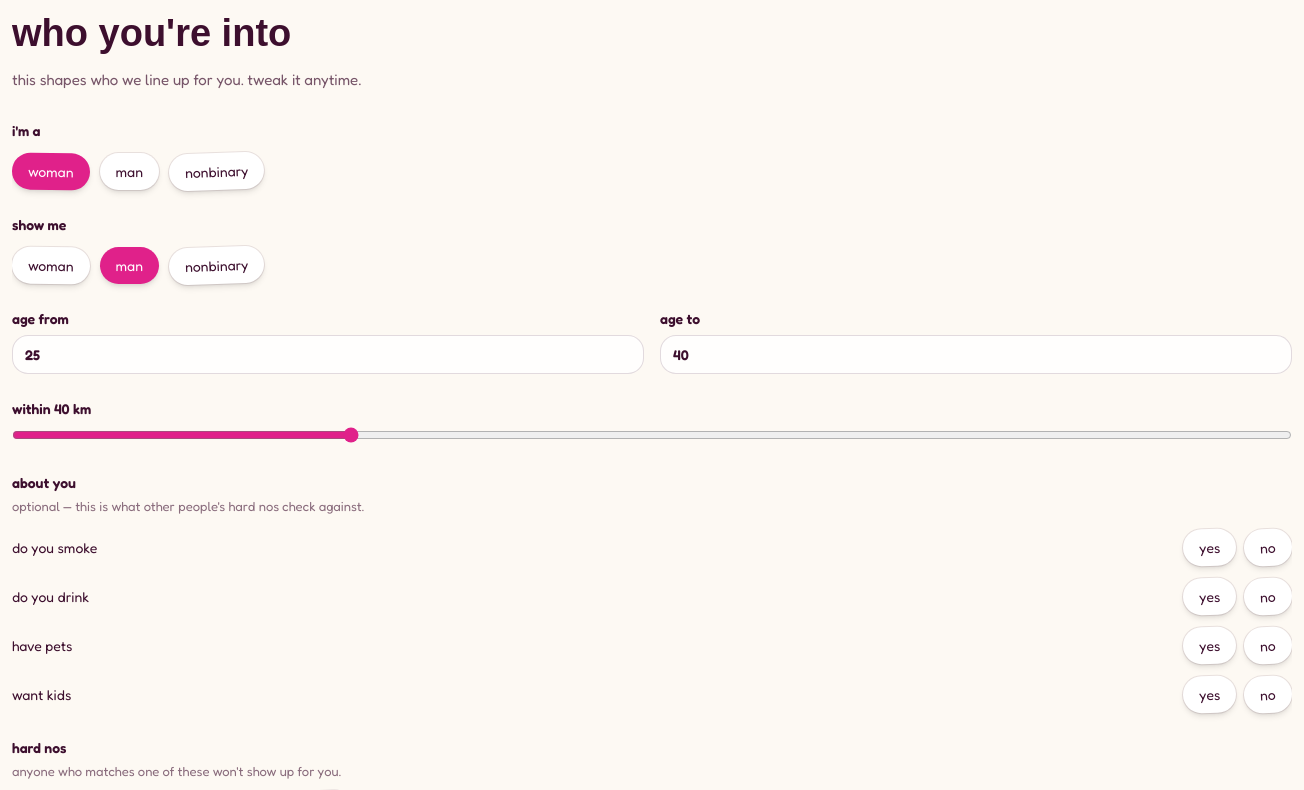
PreferencesStep › age input: deletable to empty, leading zero stripped while typing (the "019" bug)
The image size is (1304, 790).
Step 1. Clear the field labelled "age from" → (328, 355), box [12,335,644,374]
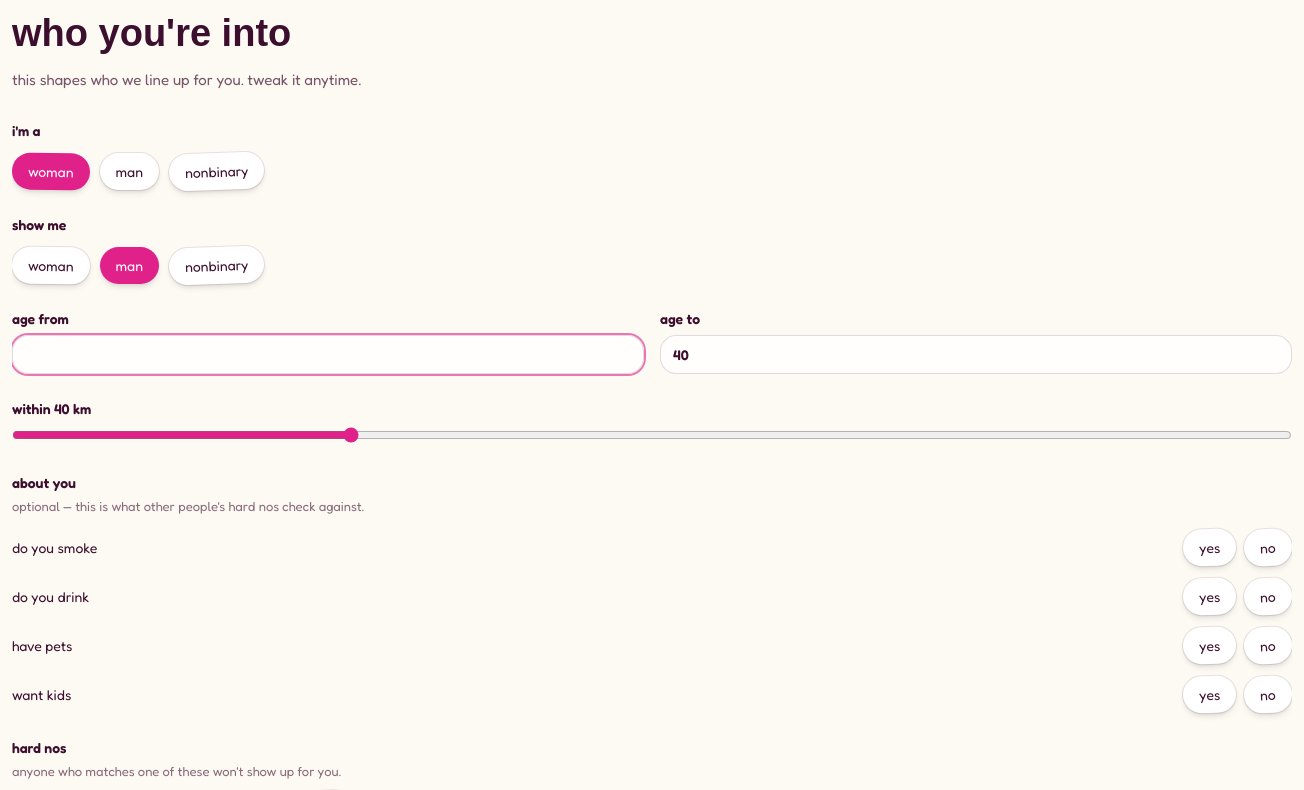
Step 2. Type "019" into the field labelled "age from" → (328, 355), box [12,335,644,374]
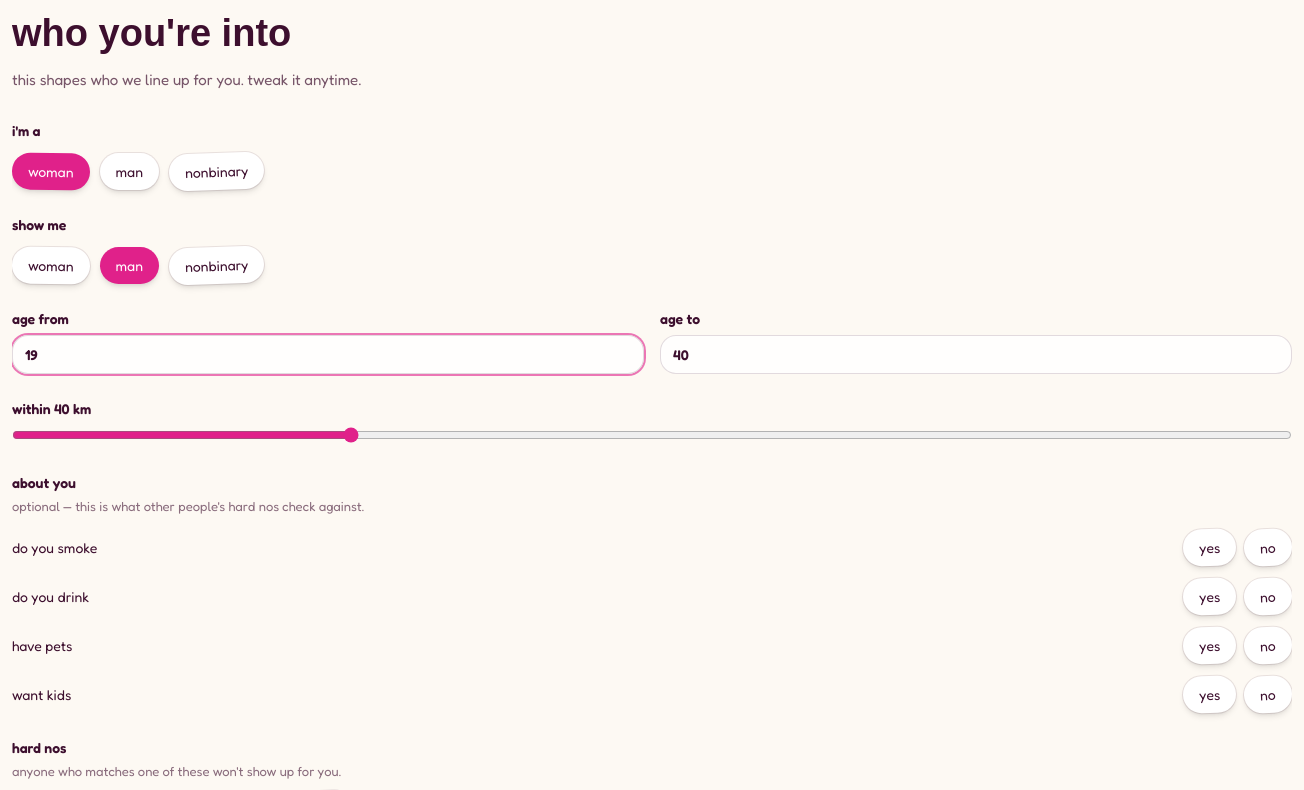
Now the field labelled "age from" holds "19", box [12,335,644,374]
